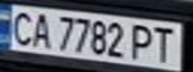2: (103, 19, 130, 58)
7: (51, 12, 75, 52), (69, 15, 93, 53)
8: (87, 17, 112, 56)
A: (27, 10, 54, 48)
C: (6, 8, 39, 47)
P: (127, 20, 160, 62)
T: (148, 25, 181, 63)
